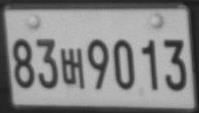0: (112, 38, 136, 91)
1: (140, 39, 163, 90)
3: (163, 38, 187, 90), (35, 38, 59, 89)
8: (11, 37, 35, 89)
9: (87, 38, 109, 90)
버: (60, 47, 85, 89)
